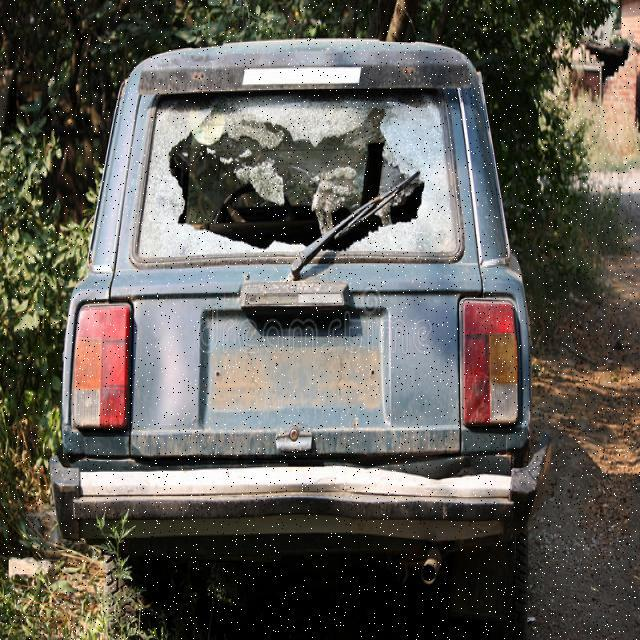Rear-windscreen-Damage: (103, 67, 495, 324)
